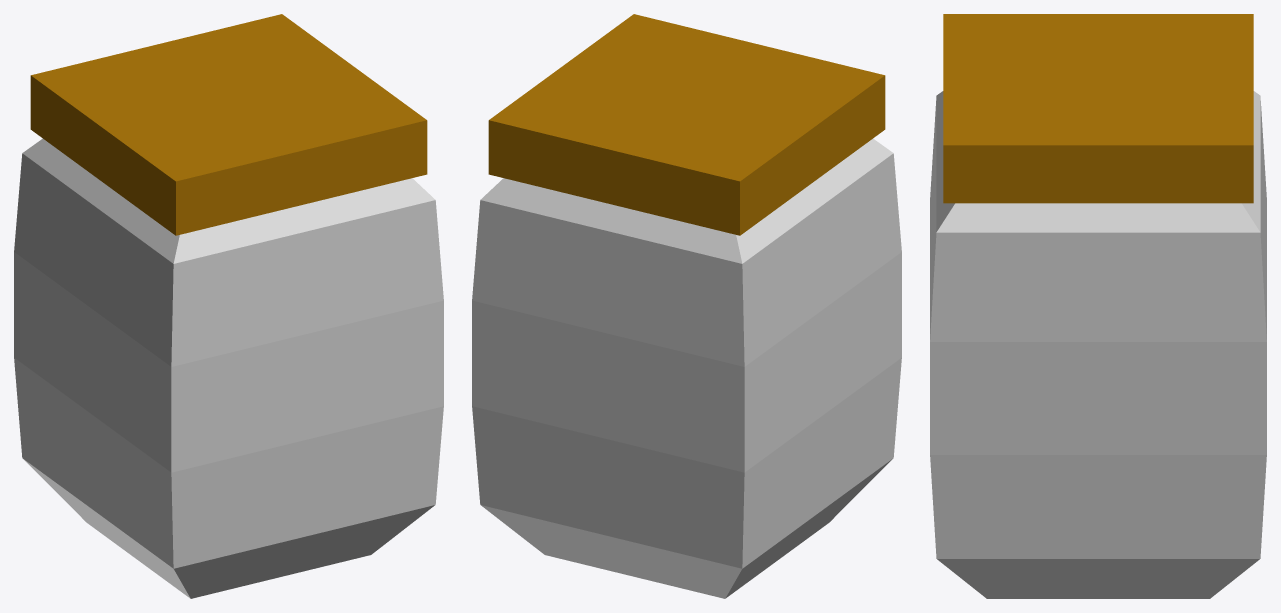
File: lowpolyjar.fbx
The picture shows the model from 3 angles, left to right: view 1: azimuth 30°, elevation 25°; view 2: azimuth 150°, elevation 25°; view 3: azimuth 270°, elevation 25°; orthographic projection. The views are drawn at different scales.
Parts seen in each view (by area): view 1: glass, lid; view 2: glass, lid; view 3: glass, lid.
Boxes of the visible parts, <box> form: glass: <box>14,138,443,598</box>; lid: <box>30,14,427,235</box>; glass: <box>472,138,901,598</box>; lid: <box>488,14,885,235</box>; glass: <box>930,91,1266,598</box>; lid: <box>943,14,1253,203</box>.
Bounding box in the file's own units: 259 × 400 × 259.
